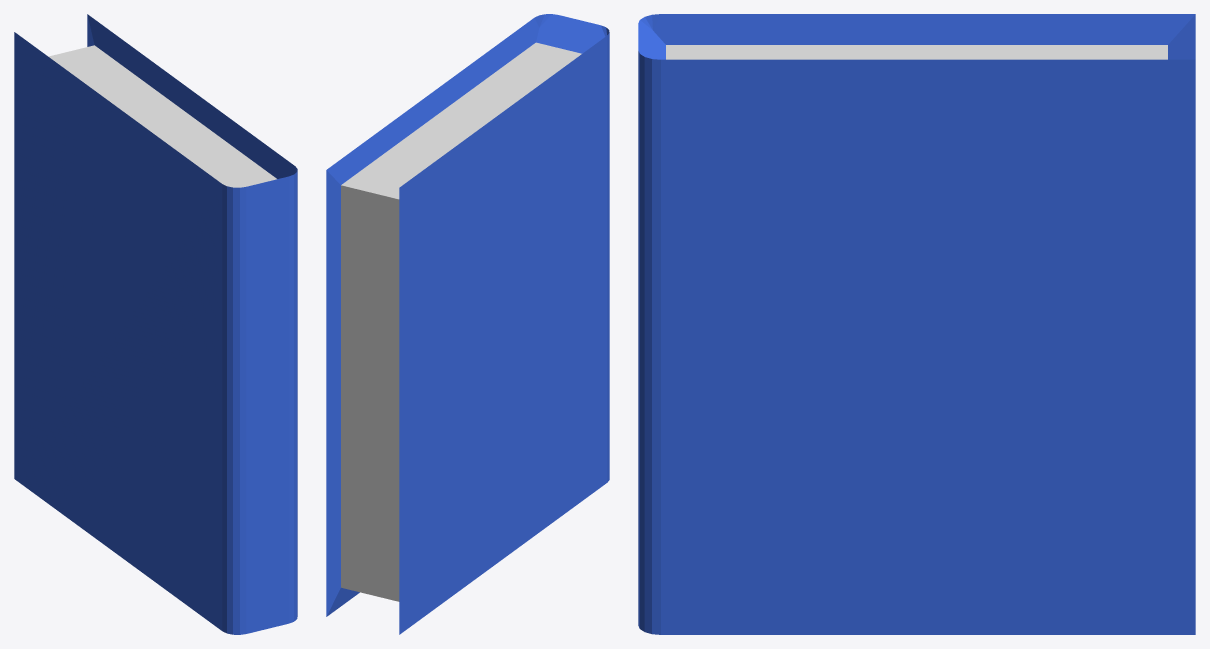
File: blue_book.glb
3 renders of one model, left to right at view 1: azimuth 30°, elevation 25°; view 2: azimuth 150°, elevation 25°; view 3: azimuth 270°, elevation 25°, orthographic. The views are drawn at different scales.
Parts seen in each view (by area): view 1: book.001; view 2: book.001; view 3: book.001.
Boxes of the visible parts, x1,y1,x2,y2 form: book.001: (14, 14, 297, 634); book.001: (326, 14, 609, 634); book.001: (638, 14, 1195, 634).
Size of the model in its own units: 0.1022 by 0.5984 by 0.5258.
